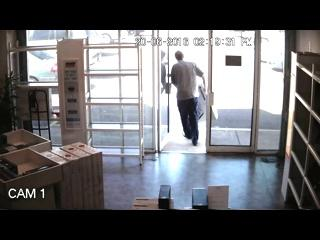shoplifting: (171, 50, 207, 146)
